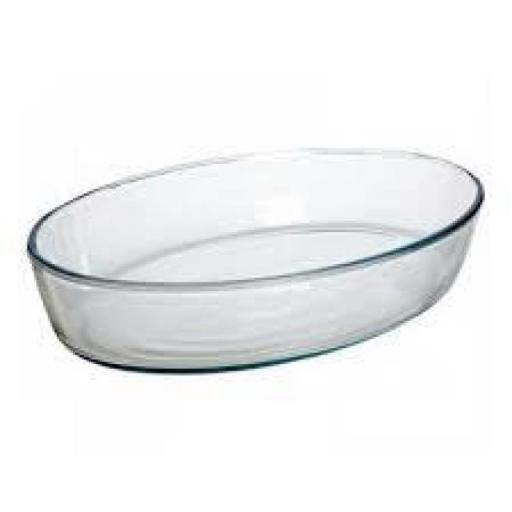glass: (1, 123, 512, 387)
